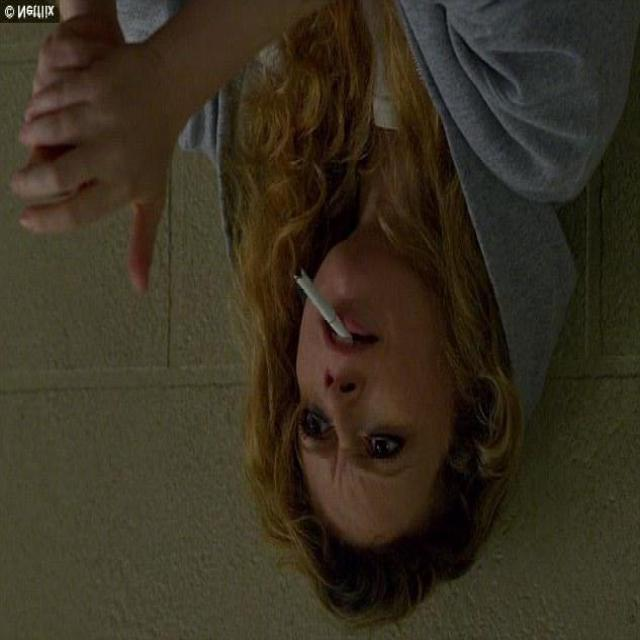cigarette: (271, 248, 374, 368)
